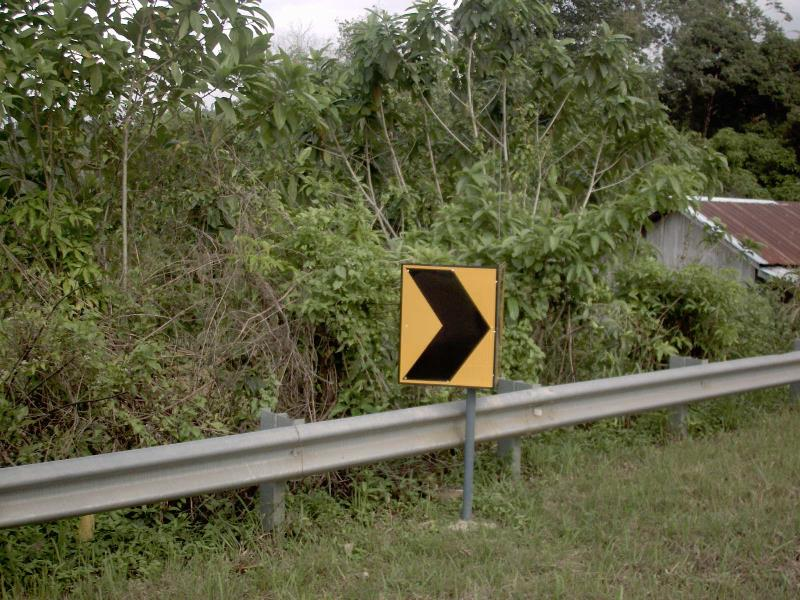traffic_sign: (388, 245, 510, 405)
